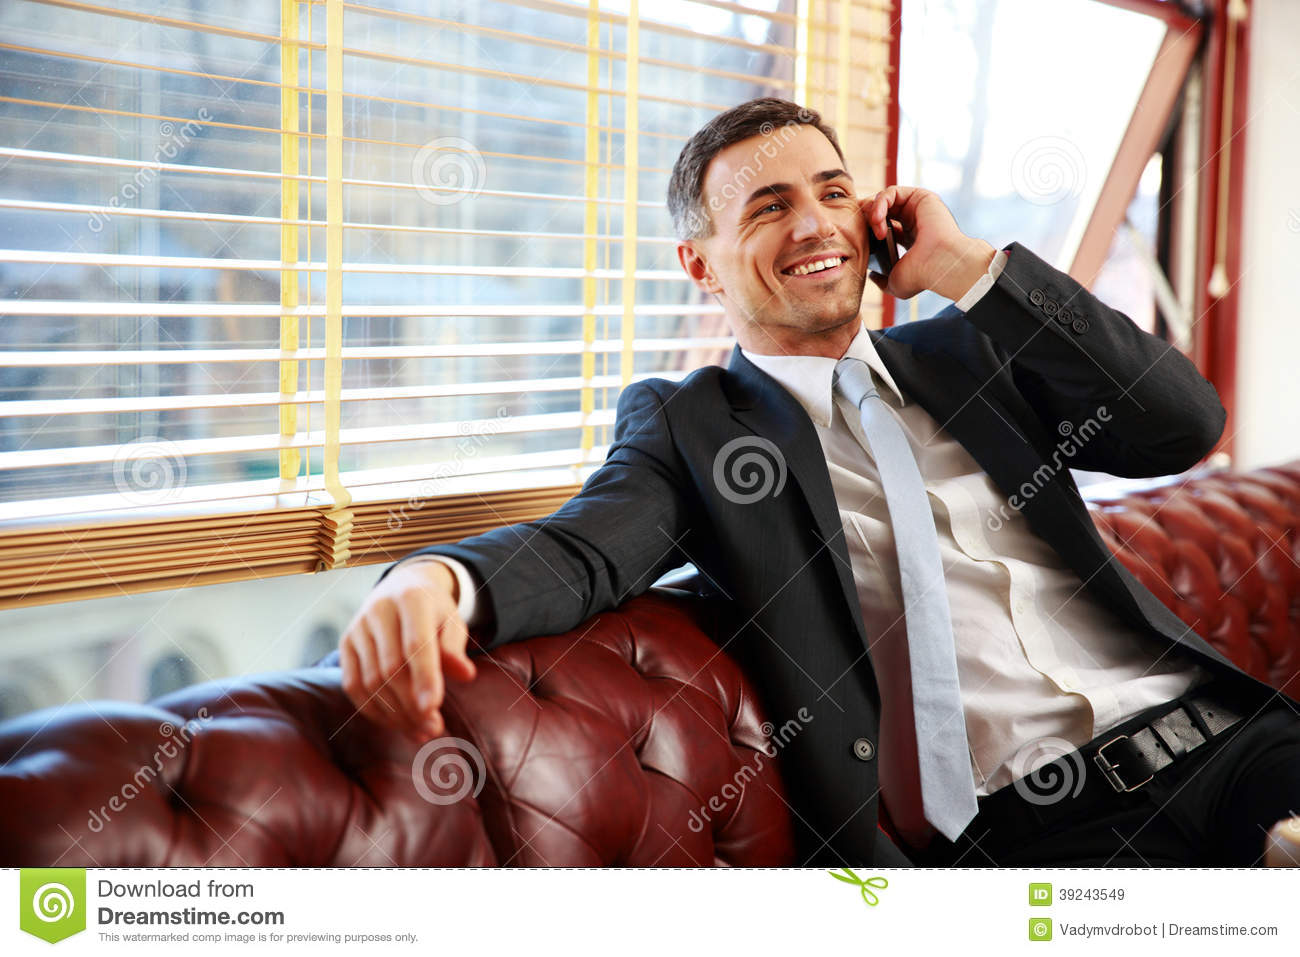phone: (853, 220, 904, 273)
talk: (728, 164, 957, 329)
